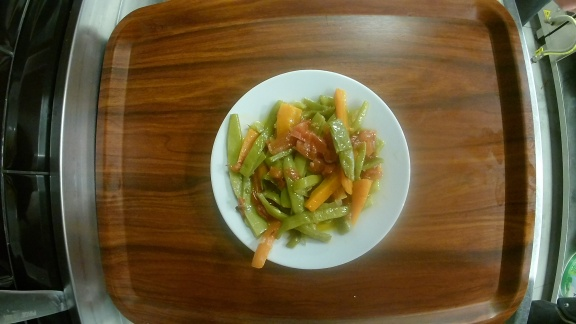tazefasulye: (209, 69, 412, 271)
